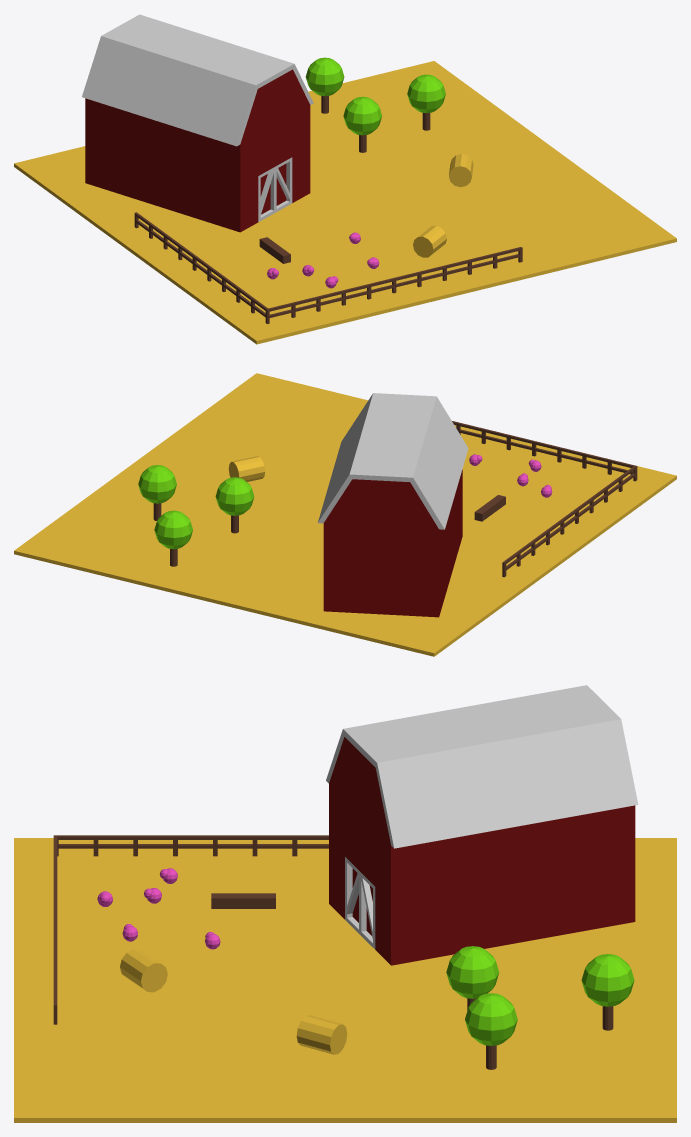
Rendered from barn2.FBX.
3 renders of one model, top to bottom at view 1: azimuth 30°, elevation 25°; view 2: azimuth 150°, elevation 25°; view 3: azimuth 270°, elevation 25°, orthographic. The views are drawn at different scales.
Parts seen in each view (by area): view 1: Layer:pasture, Layer:barn, Layer:white, Layer:wood, Layer:greenery, Layer:rowhouse1; view 2: Layer:pasture, Layer:barn, Layer:white, Layer:wood, Layer:greenery, Layer:rowhouse1; view 3: Layer:pasture, Layer:barn, Layer:white, Layer:greenery, Layer:wood, Layer:rowhouse1.
Boxes of the visible parts, x1,y1,x2,y2 form: Layer:pasture: [14, 61, 676, 344]; Layer:barn: [85, 69, 310, 232]; Layer:white: [82, 14, 313, 221]; Layer:wood: [134, 96, 522, 323]; Layer:greenery: [305, 57, 445, 135]; Layer:rowhouse1: [267, 232, 379, 288]; Layer:pasture: [14, 373, 676, 656]; Layer:barn: [323, 469, 462, 617]; Layer:white: [318, 393, 468, 529]; Layer:wood: [153, 421, 637, 577]; Layer:greenery: [138, 465, 254, 549]; Layer:rowhouse1: [469, 454, 552, 497]; Layer:pasture: [14, 838, 676, 1122]; Layer:barn: [329, 737, 635, 965]; Layer:white: [326, 685, 638, 949]; Layer:greenery: [446, 946, 634, 1045]; Layer:wood: [53, 835, 613, 1069]; Layer:rowhouse1: [97, 868, 220, 949].
Bounding box in the file's own units: 4000 × 1289 × 4000.
